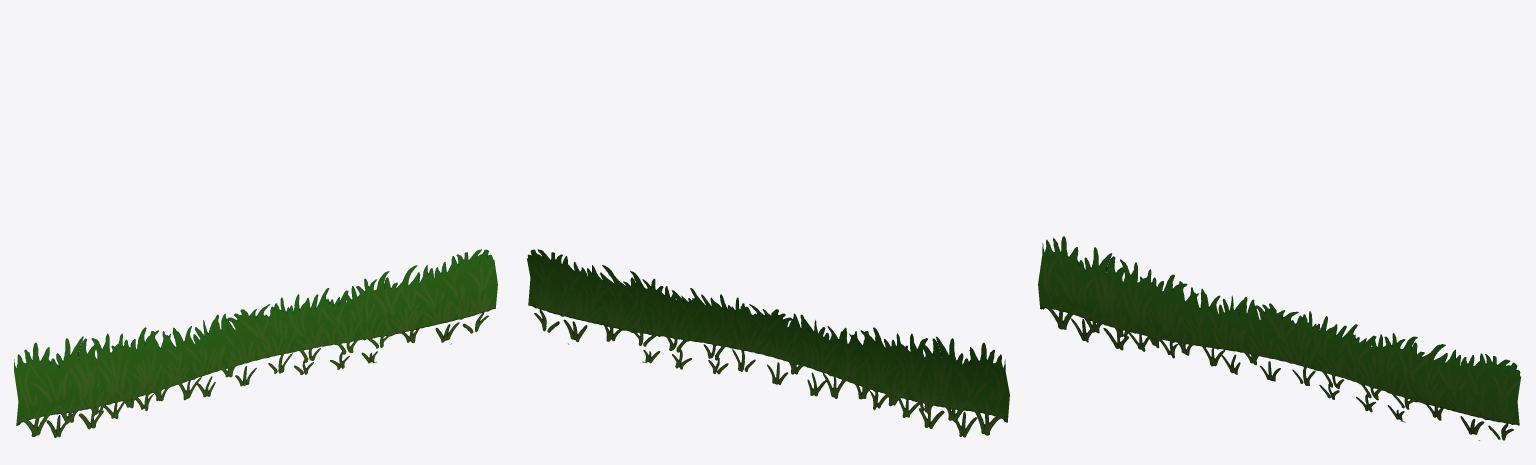
The model's file is grass_plane.FBX.
3 renders of one model, left to right at view 1: azimuth 30°, elevation 25°; view 2: azimuth 150°, elevation 25°; view 3: azimuth 330°, elevation 25°, orthographic.
Visible parts, largest first — view 1: Plane001; view 2: Plane001; view 3: Plane001.
Part boxes in pixels (x1,y1,x2,y2): Plane001: (14,249,497,437); Plane001: (527,249,1009,437); Plane001: (1038,236,1521,440).
Bounding box in the file's own units: 103 × 65.36 × 1.64.
